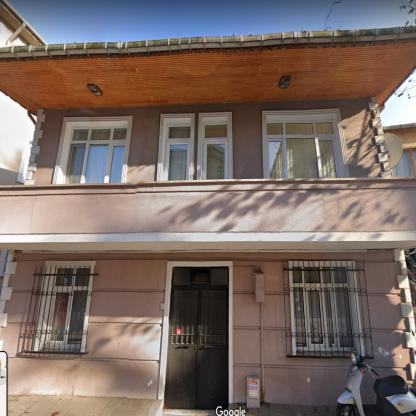door: (164, 288, 228, 407)
window: (291, 265, 354, 348), (266, 121, 338, 178), (44, 268, 91, 349), (63, 126, 127, 184), (166, 127, 190, 181), (205, 124, 227, 180), (173, 268, 228, 284), (392, 149, 415, 178)
